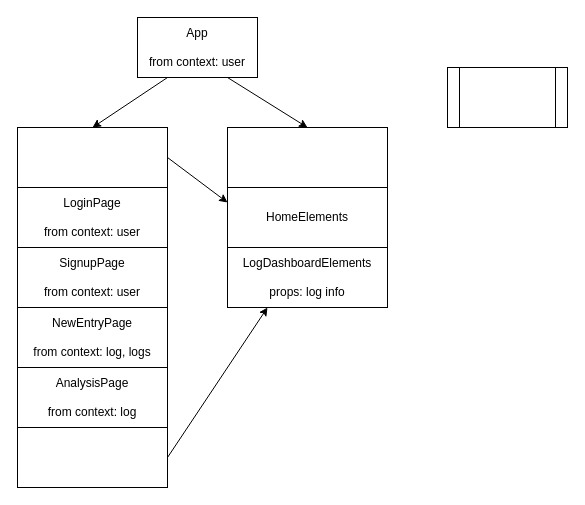
Image size: 585x505. Some labels were removed from this diagram. Each missing label, with the box of its shape:
AppContext user, log, logs: (446, 66, 568, 128)
HomePage: (16, 126, 168, 188)
Navbar from context: user: (226, 126, 388, 188)
UserDashboardPage from context: logs: (16, 426, 168, 488)
